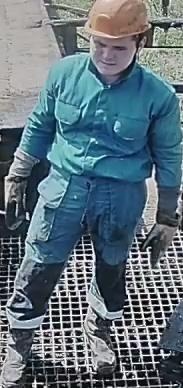gloves: (140, 207, 181, 270), (2, 164, 35, 231)
helmet: (81, 0, 154, 40)
vest: (18, 55, 183, 233)
